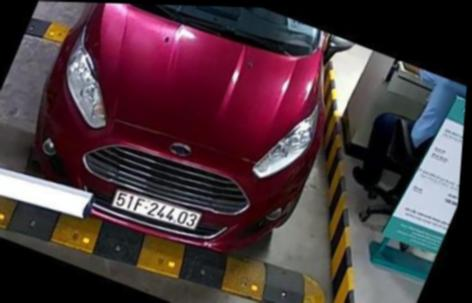License_Plate: (105, 185, 214, 244)
